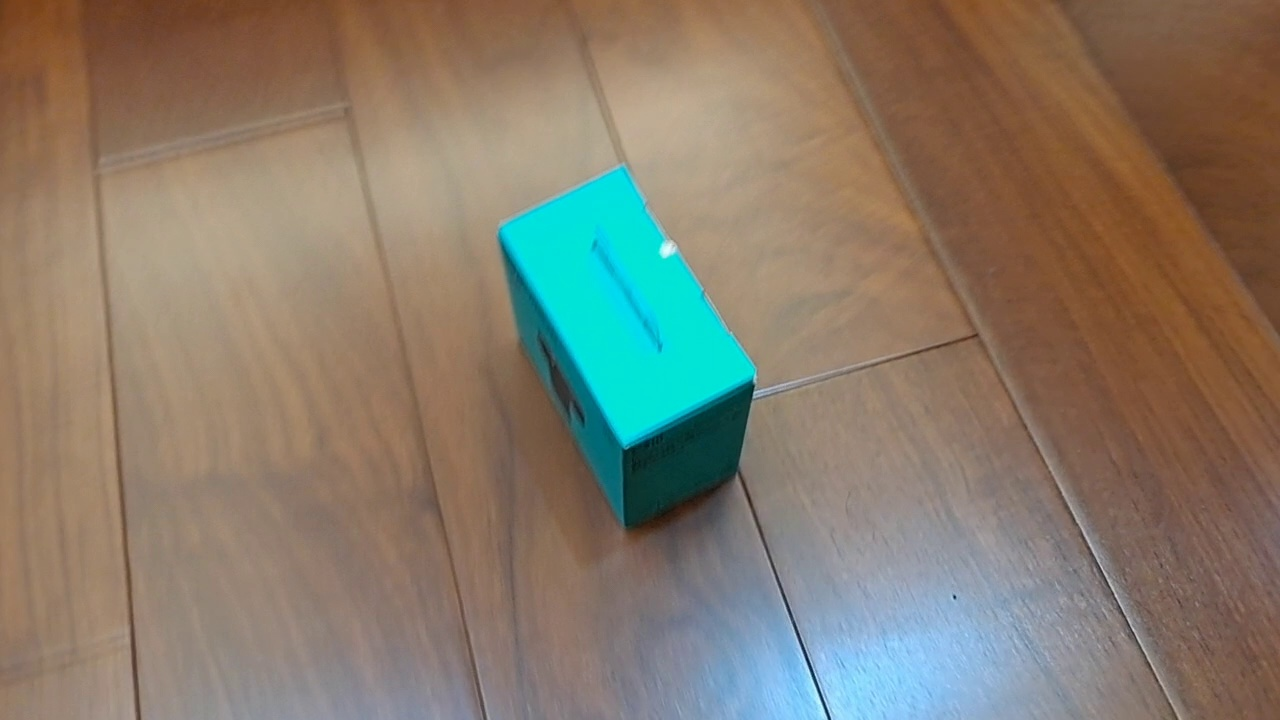webcam: (496, 160, 759, 533)
